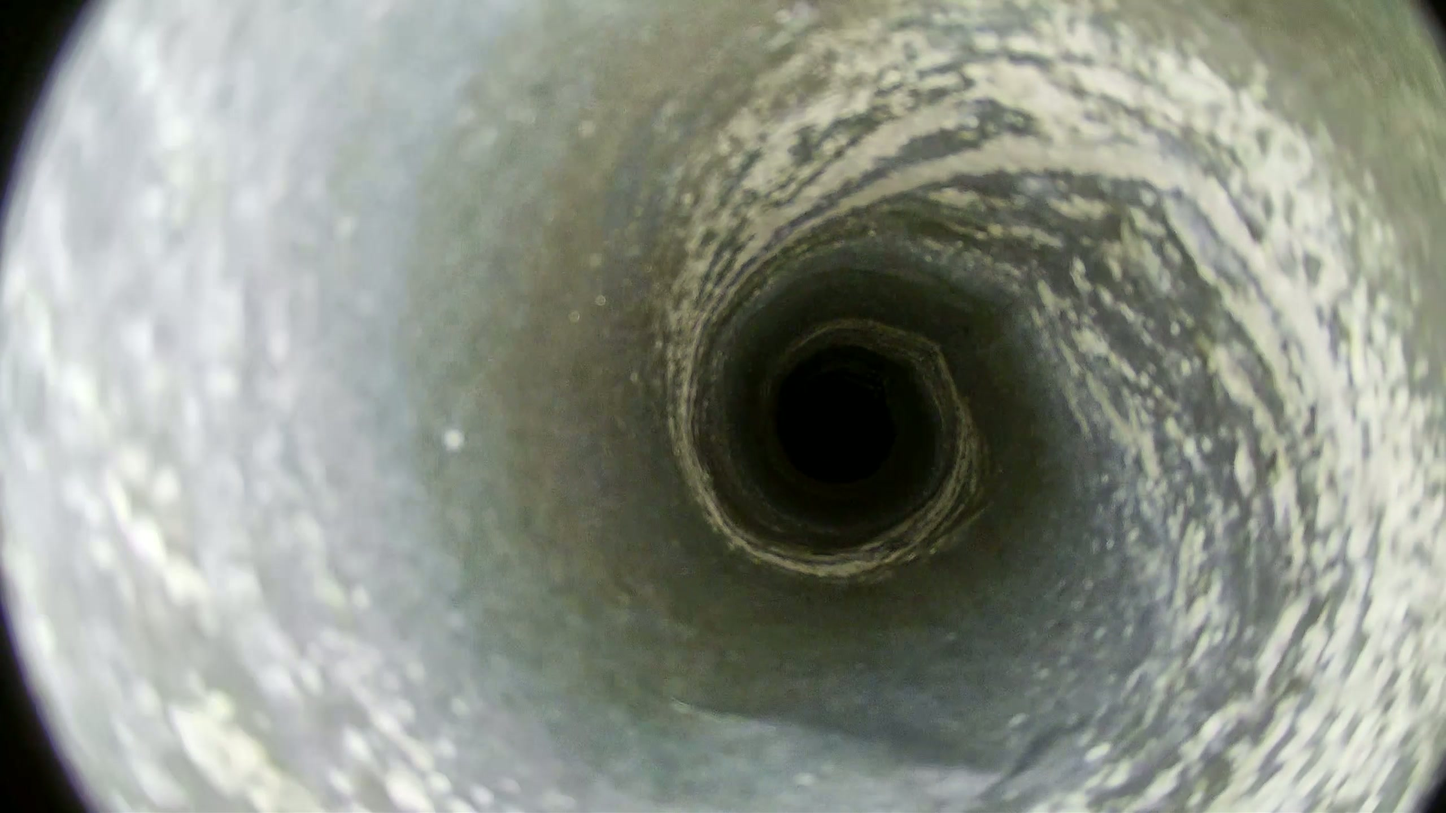hole: (779, 376, 894, 485)
